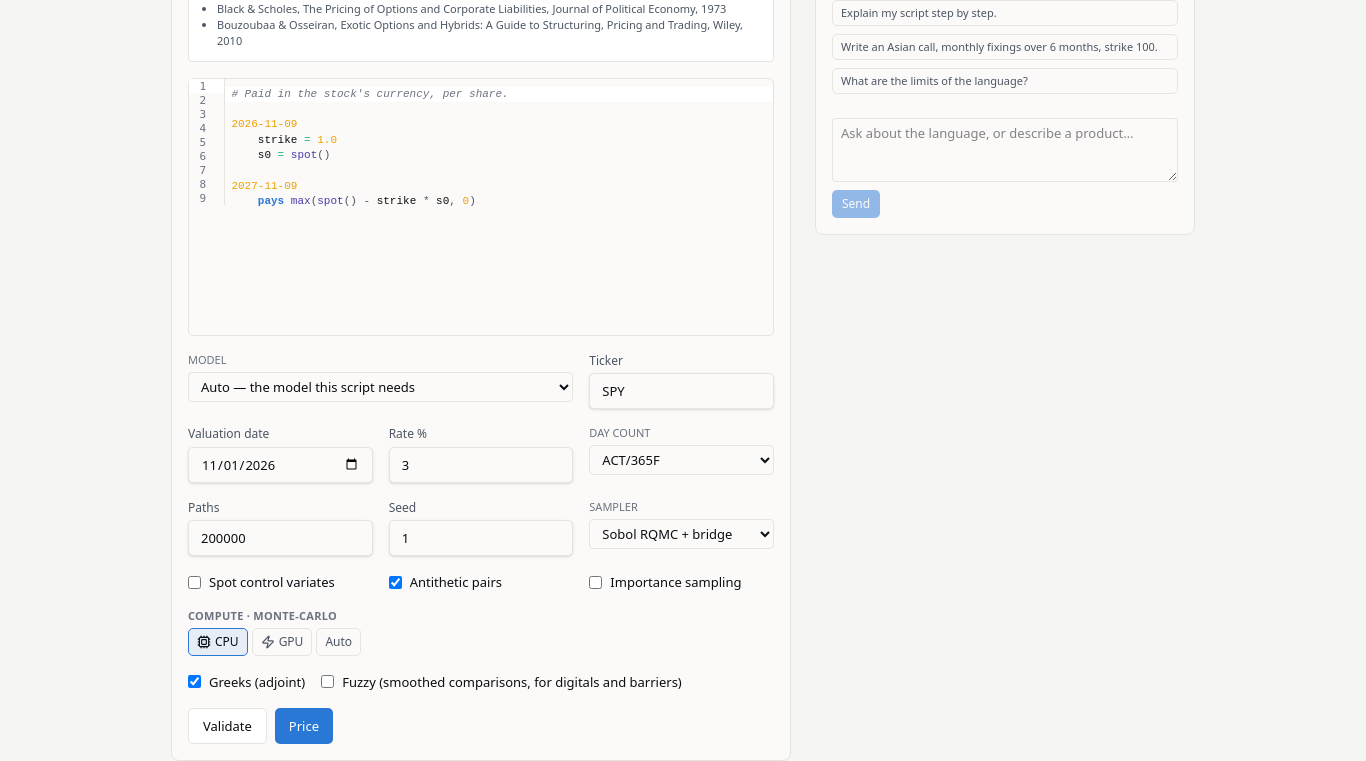
Test: scripting page — greeks › asks for the greeks by default and shows them with their errors
This screenshot has width=1366, height=761.
(page scrolled)
Click the button "Price".
click(304, 726)  # box [275, 708, 333, 744]
(page scrolled)
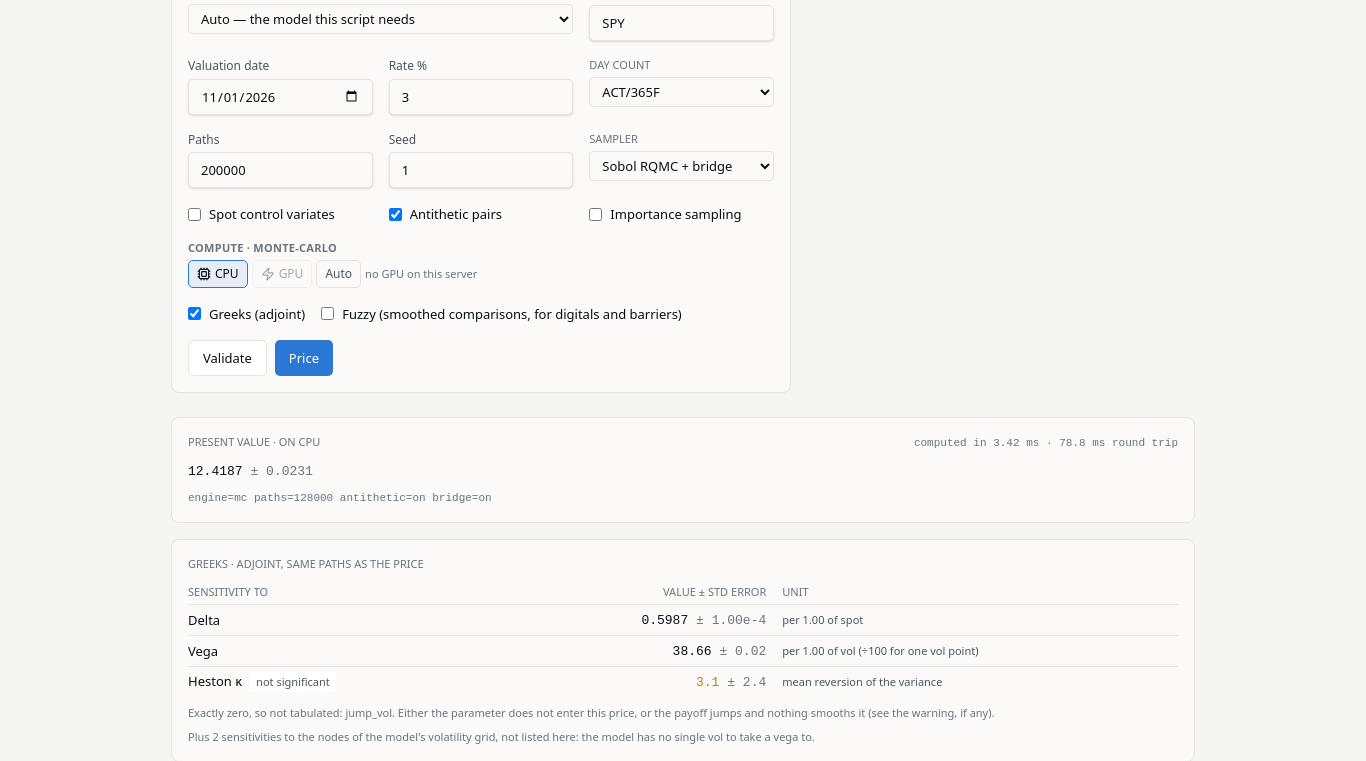
expect the row "Delta 0.5987 ± 1.00e-4 per 1.00 of spot" is shown: met, box [188, 604, 1178, 636]
expect the row "Vega 38.66 ± 0.02 per 1.00 of vol (÷100 for one vol point)" is shown: met, box [188, 636, 1178, 666]
expect the row "Heston κ" shows "not significant": met, box [256, 674, 330, 690]
